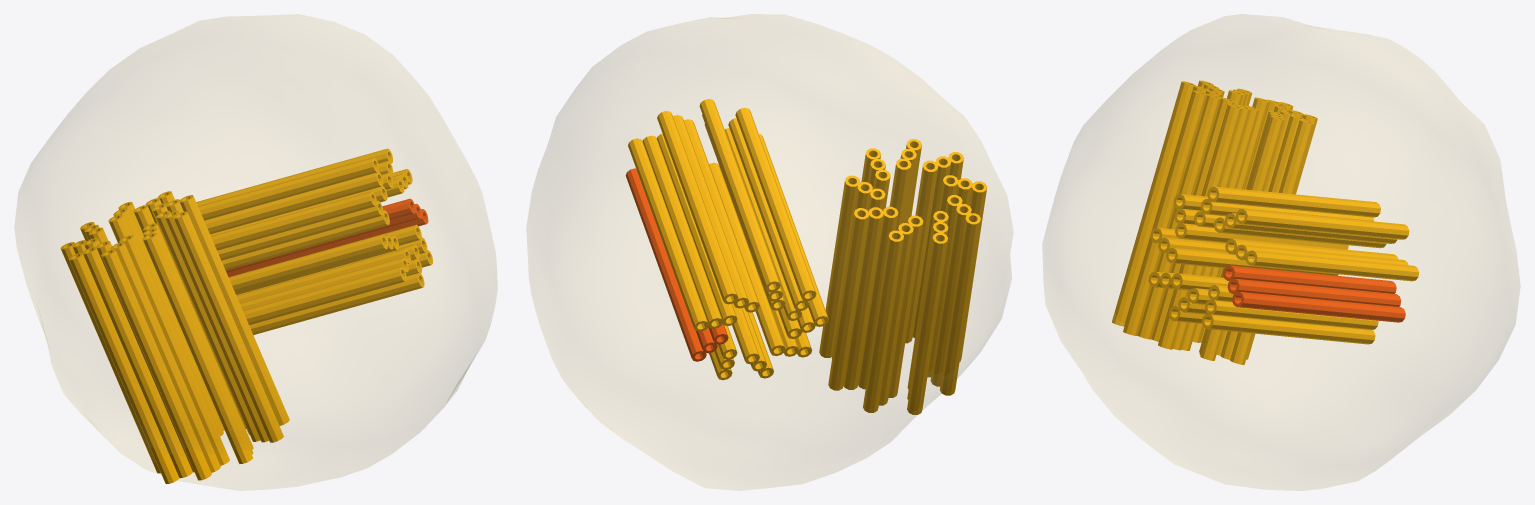
Rendered from centrosome.glb.
3 renders of one model, left to right at view 1: azimuth 30°, elevation 25°; view 2: azimuth 150°, elevation 25°; view 3: azimuth 270°, elevation 25°, orthographic.
Parts seen in each view (by area): view 1: cz-centrosome, cz-centrioles, cz-triplets; view 2: cz-centrosome, cz-centrioles, cz-triplets; view 3: cz-centrosome, cz-centrioles, cz-triplets.
Part boxes in pixels (x1=…): cz-centrosome: x1=14, y1=14, x2=497, y2=490; cz-centrioles: x1=60, y1=148, x2=432, y2=483; cz-triplets: x1=226, y1=198, x2=428, y2=277; cz-centrosome: x1=526, y1=14, x2=1013, y2=490; cz-centrioles: x1=628, y1=99, x2=987, y2=414; cz-triplets: x1=625, y1=168, x2=728, y2=361; cz-centrosome: x1=1042, y1=14, x2=1520, y2=490; cz-centrioles: x1=1112, y1=80, x2=1419, y2=364; cz-triplets: x1=1223, y1=265, x2=1405, y2=322.
Bounding box in the file's own units: 7.75 × 7.6 × 7.56.
